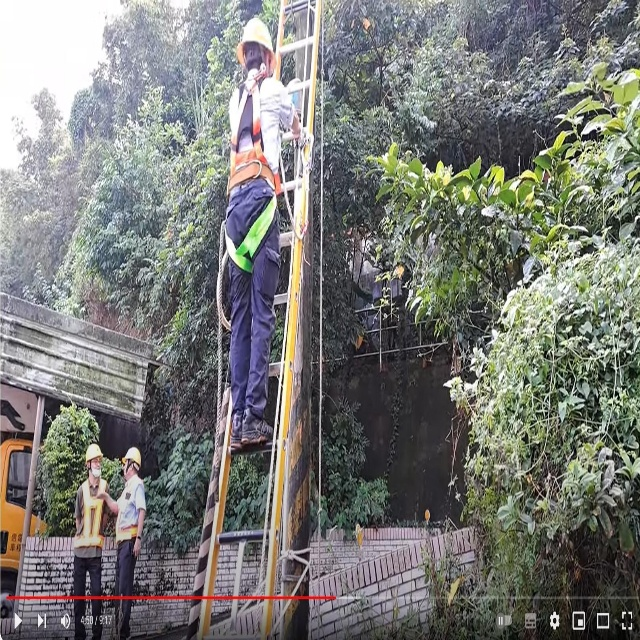Arnes_seguridad: (223, 73, 281, 277)
